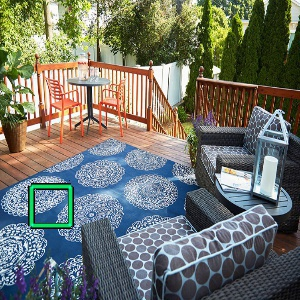square: (26, 181, 76, 231)
